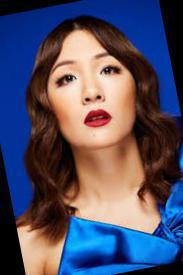Sober: (50, 35, 136, 139)
